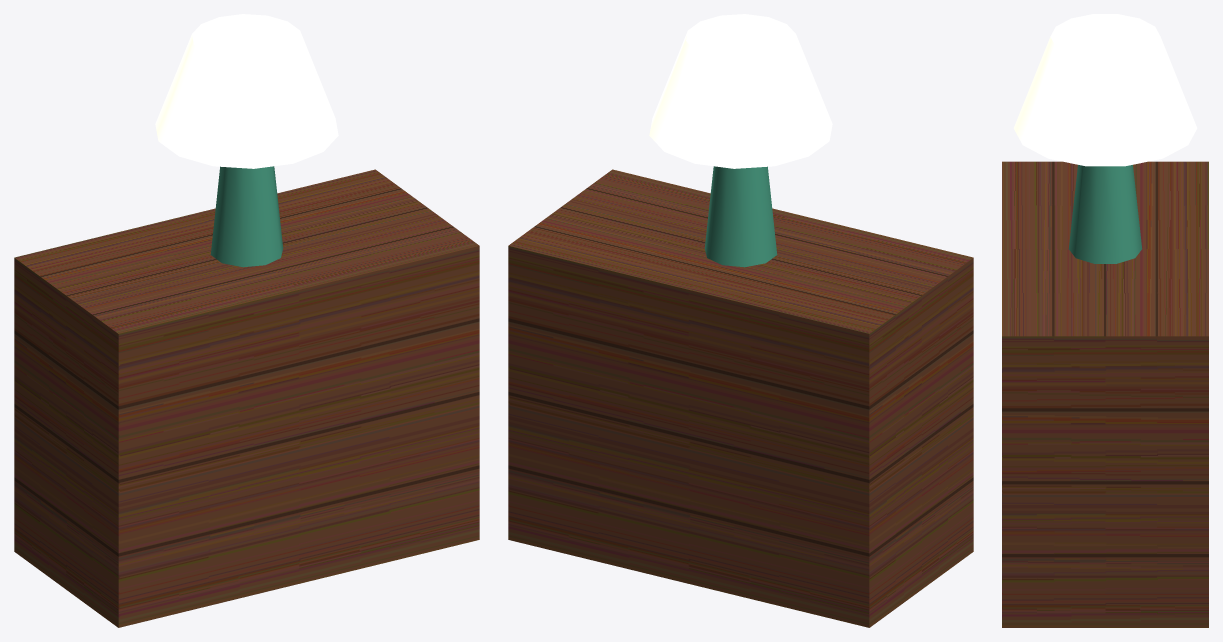
File: side_table_lamp.glb
3 views of the same model, side by side, from view 1: azimuth 30°, elevation 25°; view 2: azimuth 150°, elevation 25°; view 3: azimuth 270°, elevation 25° (orthographic).
Parts seen in each view (by area): view 1: side_table_lamp; view 2: side_table_lamp; view 3: side_table_lamp.
Boxes of the visible parts, x1,y1,x2,y2 form: side_table_lamp: [14, 14, 479, 627]; side_table_lamp: [508, 14, 973, 627]; side_table_lamp: [1002, 14, 1208, 627].
Bounding box in the file's own units: 0.9 × 1.21 × 0.45.
3 materials, 1 textured.
